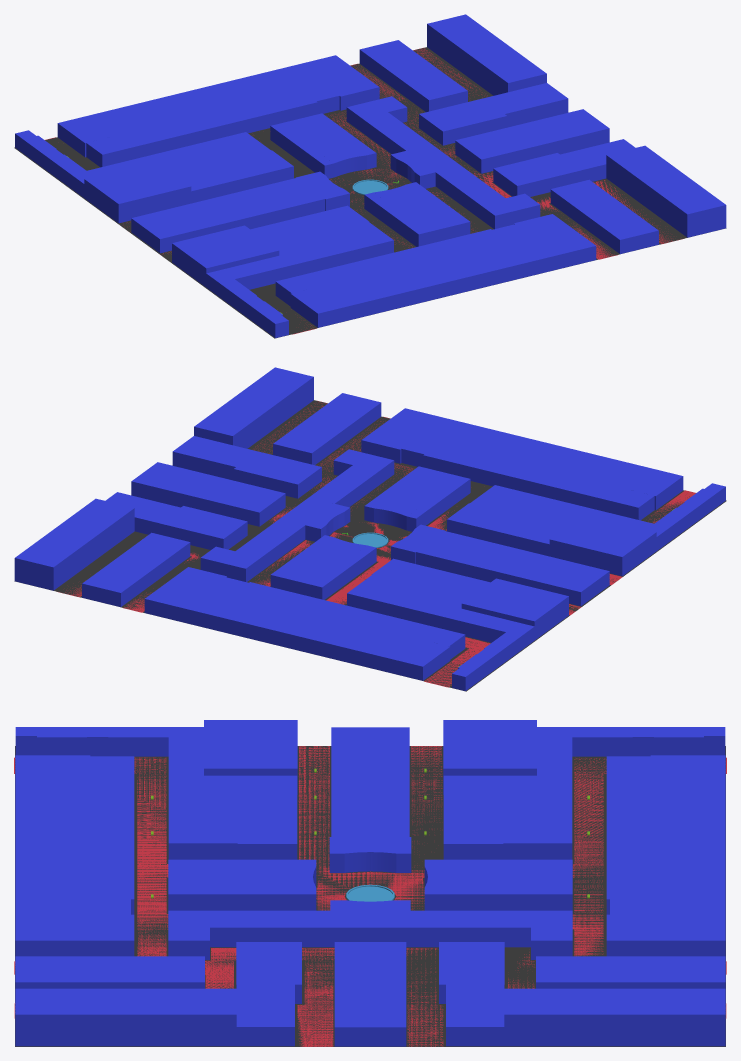
File: magazalar.fbx
The picture shows the model from 3 angles, top to bottom: view 1: azimuth 30°, elevation 25°; view 2: azimuth 150°, elevation 25°; view 3: azimuth 270°, elevation 25°; orthographic projection. The views are drawn at different scales.
Visible parts, largest first — view 1: zemin, magaza_21, magaza_076, magaza_25, magaza_058, magaza_27, magaza_084, magaza_060, magaza_45, magaza_20, yürüme_yolu, magaza_080 (+60 smaller); view 2: zemin, magaza_058, magaza_25, magaza_076, yürüme_yolu, magaza_21, magaza_27, magaza_43, magaza_20, magaza_086, magaza_060, magaza_36 (+60 smaller); view 3: zemin, yürüme_yolu, magaza_25, magaza_076, magaza_45, magaza_086, magaza_21, magaza_058, magaza_36, magaza_080, magaza_43, magaza_084 (+78 smaller).
Boxes of the visible parts, bbox=[...] form: zemin: bbox=[14, 47, 726, 338]; magaza_21: bbox=[84, 161, 191, 223]; magaza_076: bbox=[358, 244, 472, 307]; magaza_25: bbox=[141, 85, 255, 146]; magaza_058: bbox=[172, 225, 279, 287]; magaza_27: bbox=[131, 201, 230, 253]; magaza_084: bbox=[658, 183, 726, 237]; magaza_060: bbox=[250, 220, 333, 277]; magaza_45: bbox=[475, 49, 546, 95]; magaza_20: bbox=[144, 146, 232, 203]; yürüme_yolu: bbox=[45, 47, 682, 334]; magaza_080: bbox=[514, 214, 596, 269]; zemin: bbox=[14, 400, 726, 691]; magaza_058: bbox=[549, 514, 656, 576]; magaza_25: bbox=[268, 597, 382, 660]; magaza_076: bbox=[485, 438, 599, 499]; yürüme_yolu: bbox=[58, 400, 695, 687]; magaza_21: bbox=[461, 578, 568, 640]; magaza_27: bbox=[510, 554, 609, 606]; magaza_43: bbox=[14, 536, 82, 590]; magaza_20: bbox=[407, 573, 490, 630]; magaza_086: bbox=[194, 402, 265, 448]; magaza_060: bbox=[508, 499, 596, 556]; magaza_36: bbox=[144, 567, 226, 622]; zemin: bbox=[15, 746, 725, 1046]; yürüme_yolu: bbox=[14, 746, 726, 1046]; magaza_25: bbox=[606, 811, 725, 858]; magaza_076: bbox=[15, 811, 134, 858]; magaza_45: bbox=[504, 988, 594, 1046]; magaza_086: bbox=[146, 988, 236, 1046]; magaza_21: bbox=[443, 720, 536, 794]; magaza_058: bbox=[204, 720, 297, 794]; magaza_36: bbox=[606, 914, 725, 956]; magaza_080: bbox=[15, 914, 134, 956]; magaza_43: bbox=[645, 988, 725, 1046]; magaza_084: bbox=[15, 988, 95, 1046].
Bounding box in the file's own units: 3937 × 196 × 3941.
